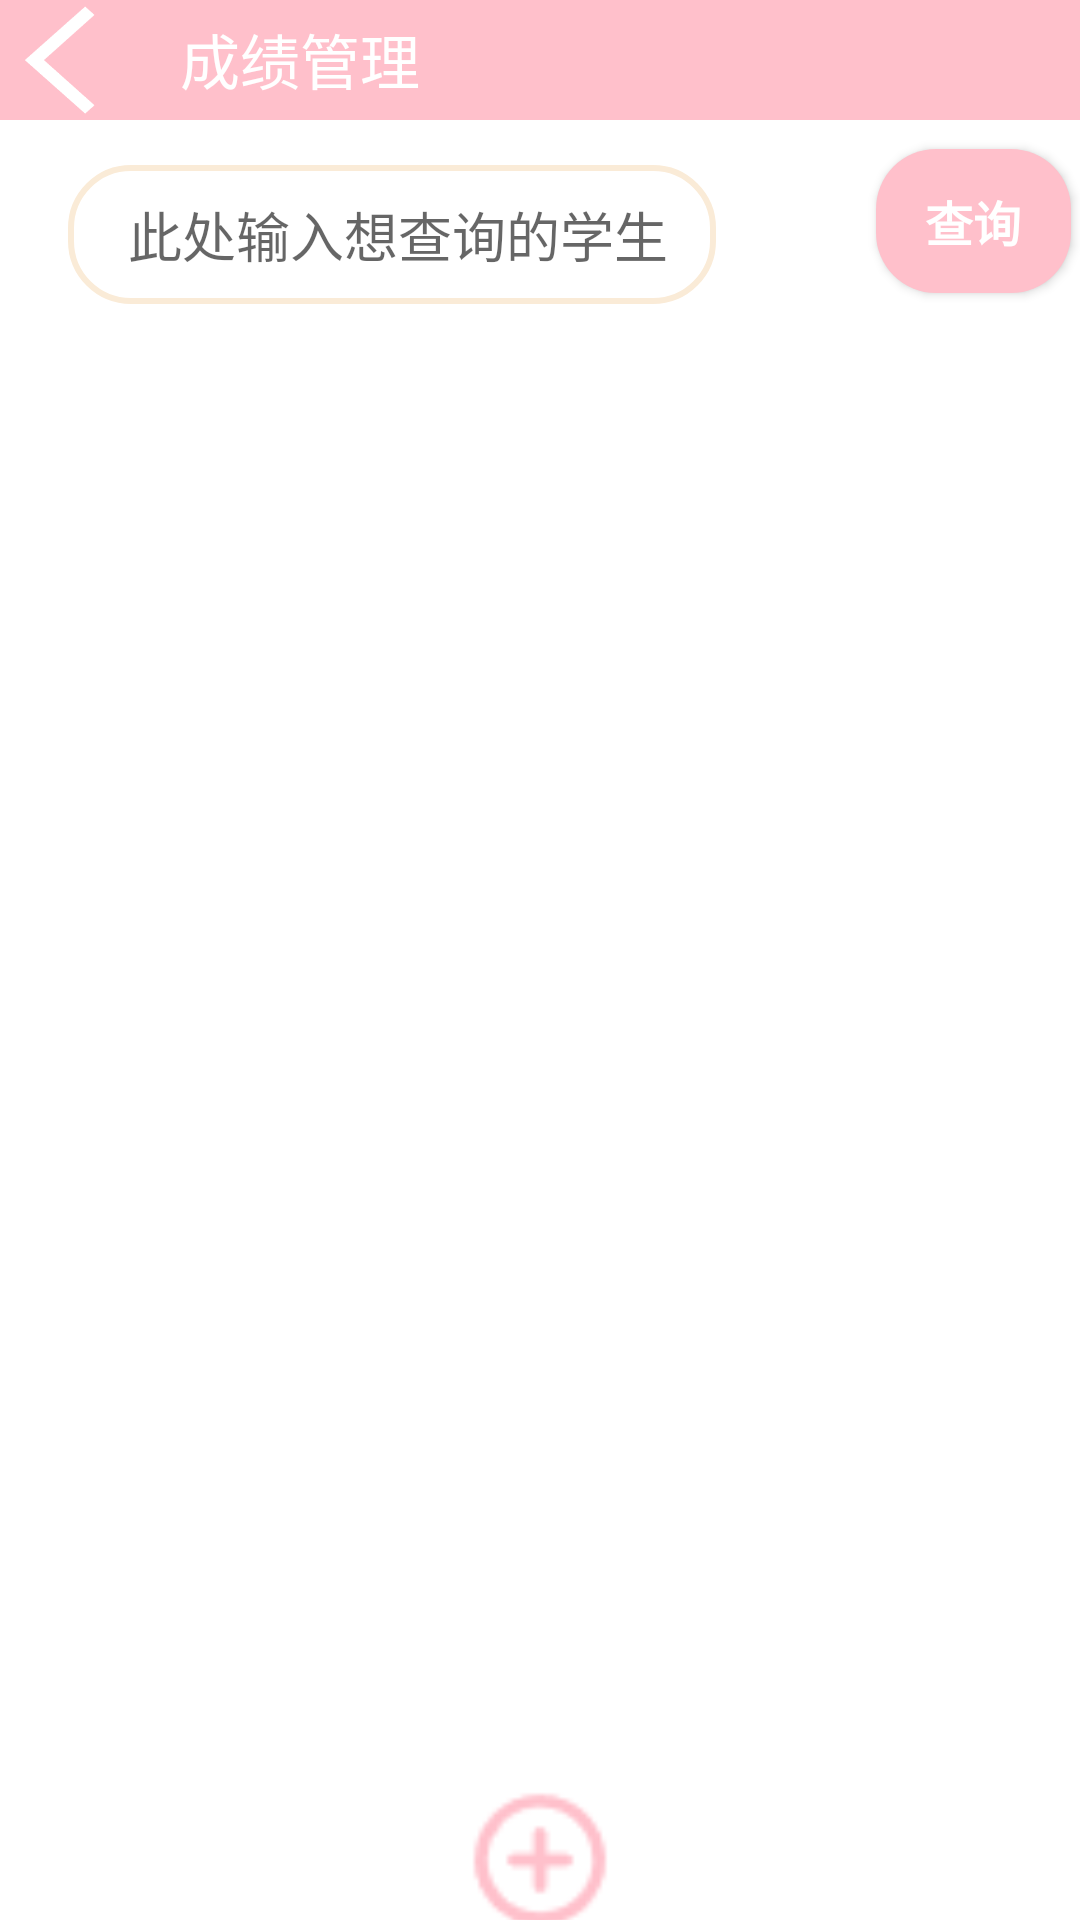

Icon click points for this 1080*1920 phone screenshot, format (x,y):
add: (540,1857)
arrow return: (59,60)
